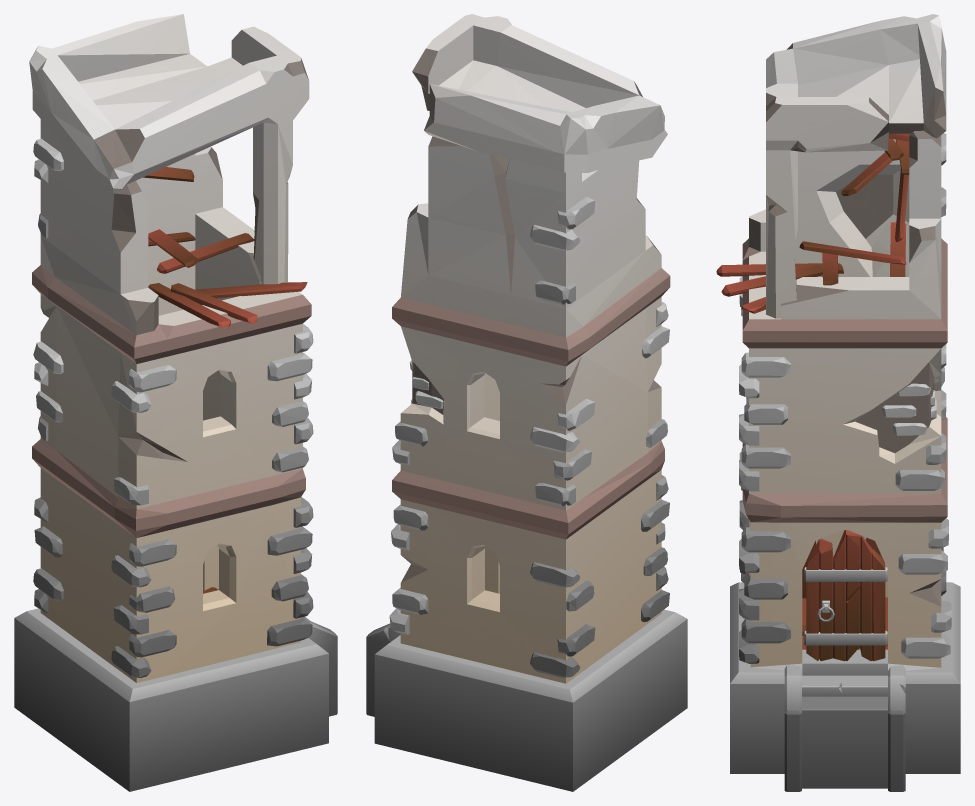
The model's file is DamagedTower3.fbx.
3 views of the same model, side by side, from view 1: azimuth 30°, elevation 25°; view 2: azimuth 150°, elevation 25°; view 3: azimuth 270°, elevation 25° (orthographic).
Visible parts, largest first — view 1: DamagedTower3; view 2: DamagedTower3; view 3: DamagedTower3.
Boxes of the visible parts, <box> form: DamagedTower3: <box>14,14,337,791</box>; DamagedTower3: <box>366,14,687,791</box>; DamagedTower3: <box>716,14,960,791</box>.
Size of the model in its own units: 5.48 by 14.52 by 4.81.
